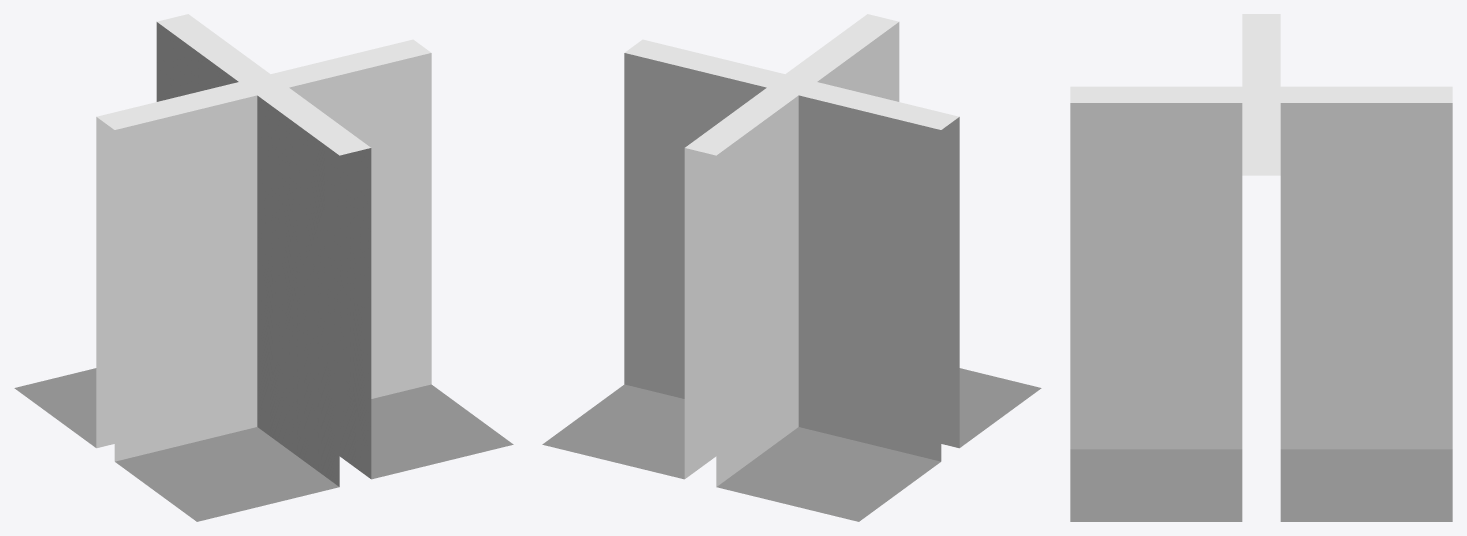
Rendered from I_Wall_Plus_Shape.fbx.
The picture shows the model from 3 angles, left to right: view 1: azimuth 30°, elevation 25°; view 2: azimuth 150°, elevation 25°; view 3: azimuth 270°, elevation 25°; orthographic projection. The views are drawn at different scales.
Visible parts, largest first — view 1: I_Wall_Plus_Shape; view 2: I_Wall_Plus_Shape; view 3: I_Wall_Plus_Shape.
Part boxes in pixels (left/top/right/bottom): I_Wall_Plus_Shape: left=14, top=14, right=513, bottom=521; I_Wall_Plus_Shape: left=542, top=14, right=1041, bottom=521; I_Wall_Plus_Shape: left=1070, top=14, right=1452, bottom=521.
Size of the model in its own units: 200 by 200 by 200.
